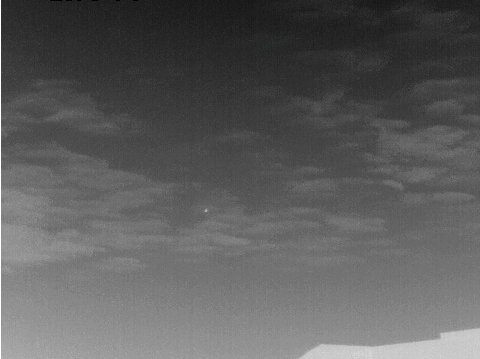dim target: (204, 208, 209, 213)
